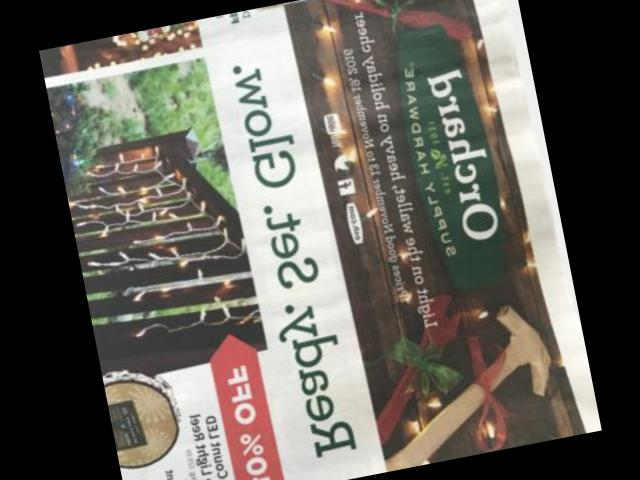cardboard paper: (39, 0, 601, 480)
